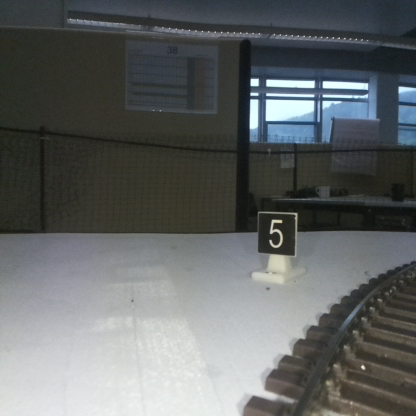black-stop-5: (258, 214, 295, 280)
